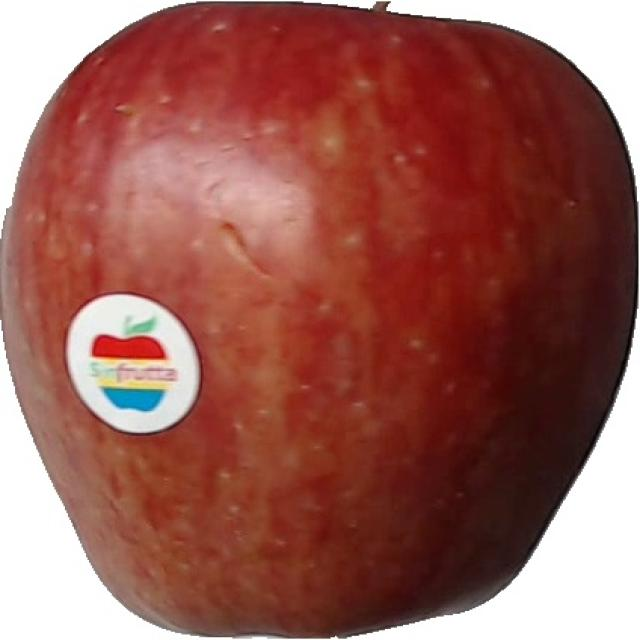apple: (0, 3, 640, 640)
